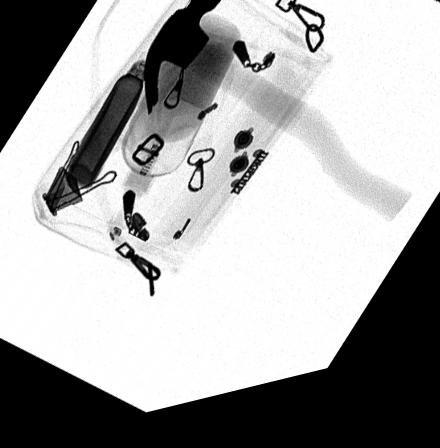Hammer: (141, 0, 410, 242)
